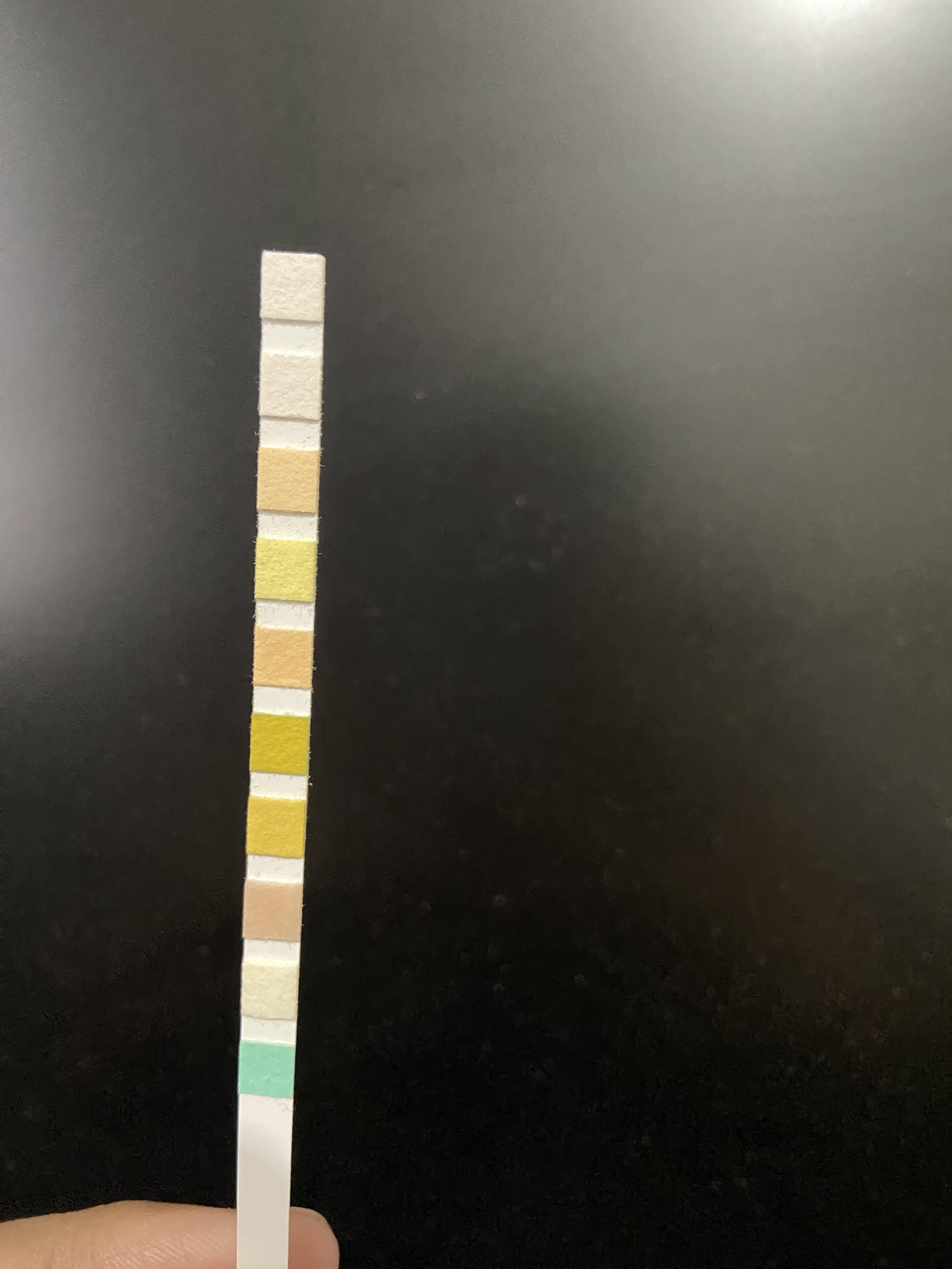Bilirubin: (242, 966, 298, 1016)
Blood: (253, 718, 309, 772)
Glucose: (240, 1047, 294, 1094)
Ketone: (246, 885, 301, 938)
Leukocytes: (262, 257, 323, 314)
Nitrite: (261, 356, 320, 415)
Protein: (257, 541, 315, 597)
SpGravity: (249, 802, 304, 854)
Urobilinogen: (259, 451, 319, 507)
pH: (256, 631, 312, 685)
strip: (237, 251, 326, 1269)
